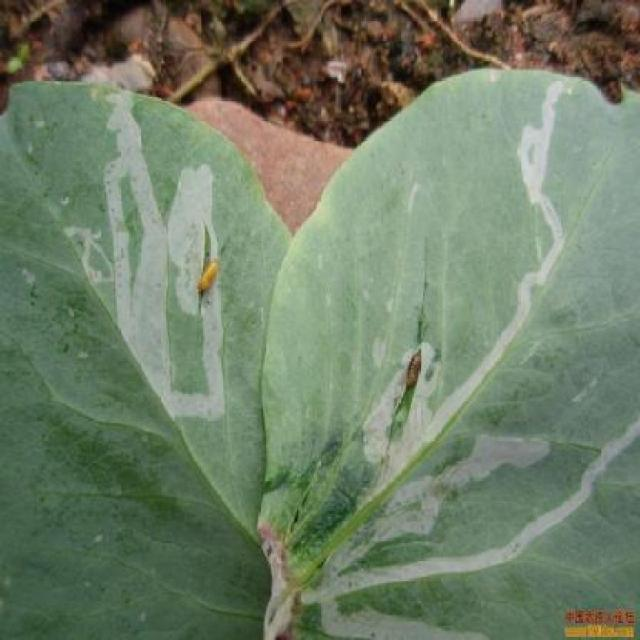whorl-maggot: (191, 254, 227, 306), (398, 339, 428, 396)
